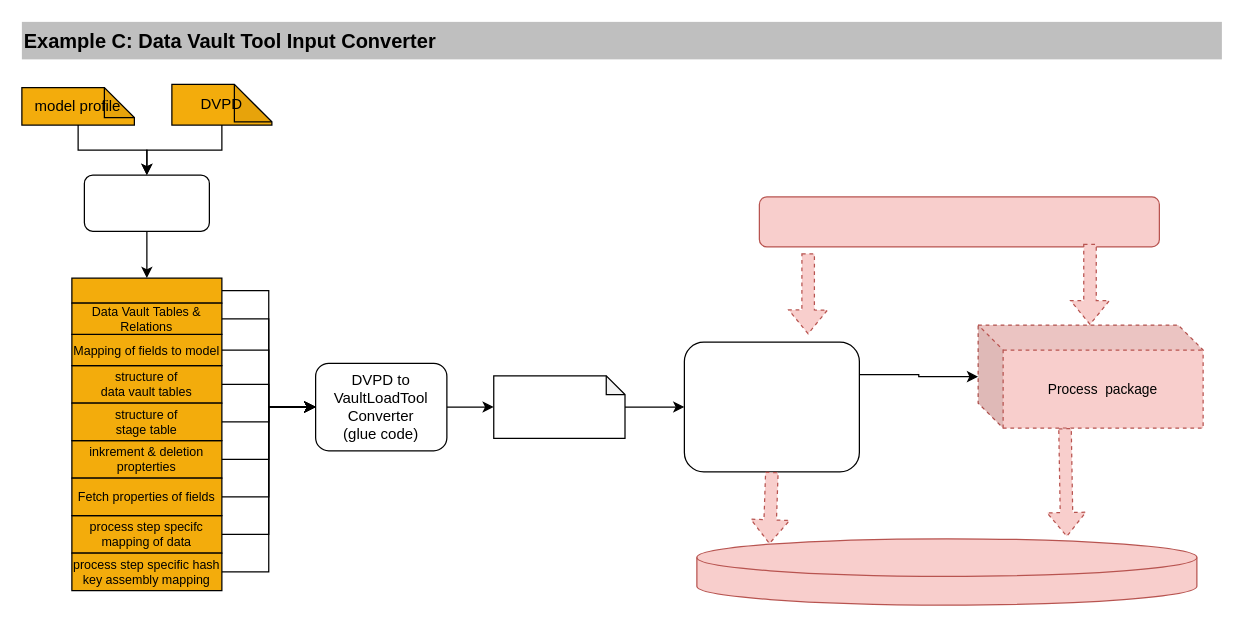
Some shapes in this 1244 by 626 pixel diagram are drawn without their labels. The box of each missing label's shape, as (x1, y1, x2, y2) in pixels:
Basic pipeline properties: (71, 277, 222, 303)
DVPD Compiler: (83, 174, 209, 231)
Importable description for VaultLoadTool: (492, 374, 625, 438)
Source: (758, 196, 1159, 247)
Vault: (696, 538, 1197, 605)
VaultLoad Tool: (683, 341, 859, 472)
